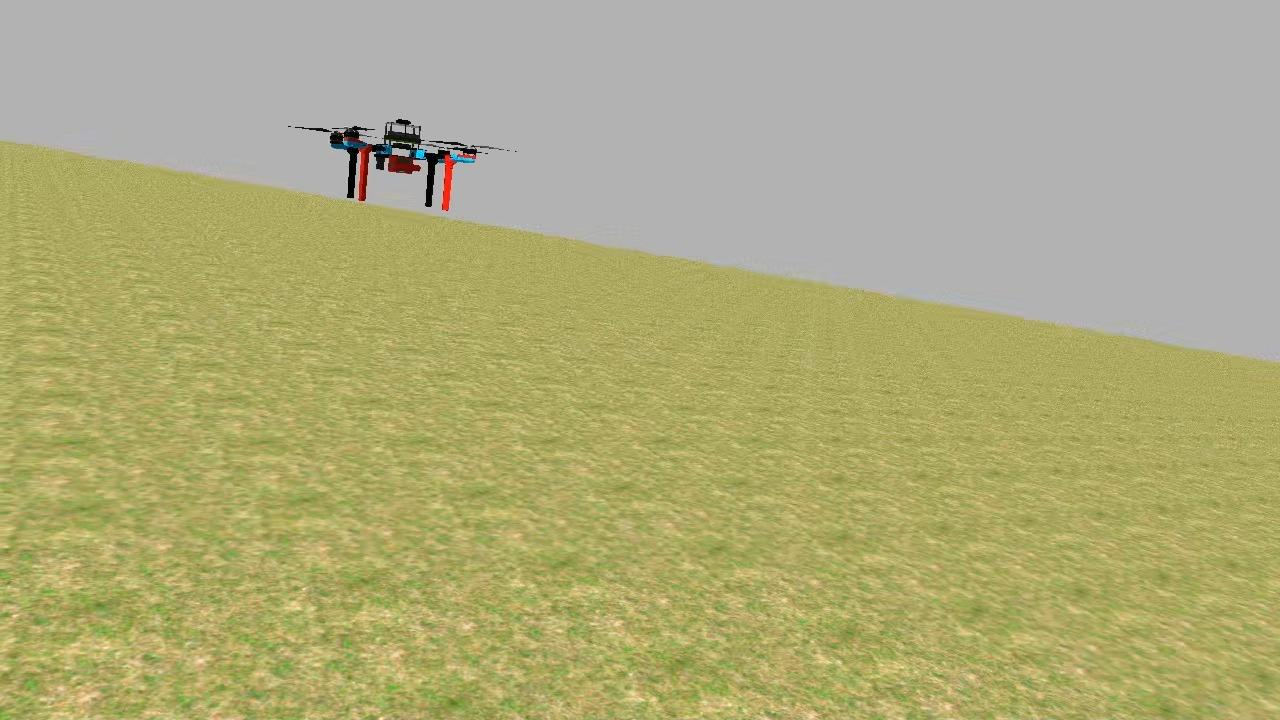UAV: (320, 112, 486, 217)
